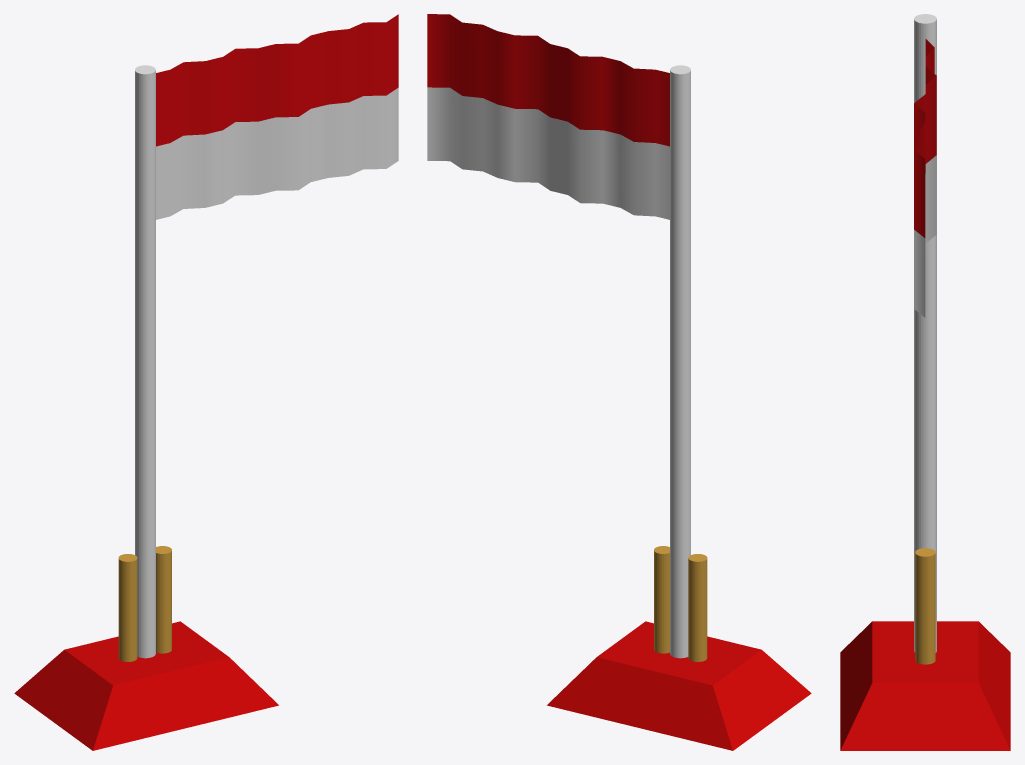
Rendered from tiang bendera.fbx.
The picture shows the model from 3 angles, left to right: view 1: azimuth 30°, elevation 25°; view 2: azimuth 150°, elevation 25°; view 3: azimuth 270°, elevation 25°; orthographic projection. The views are drawn at different scales.
Parts seen in each view (by area): view 1: Plane, Cube, Cylinder.001, Cylinder.000; view 2: Plane, Cube, Cylinder.001, Cylinder.000; view 3: Cube, Cylinder.001, Plane, Cylinder.000.
Part boxes in pixels (x1,y1,x2,y2): Plane: (156,14,398,219); Cube: (14,621,278,750); Cylinder.001: (135,65,155,658); Cylinder.000: (118,546,171,661); Plane: (427,14,669,219); Cube: (547,621,811,750); Cylinder.001: (670,65,690,658); Cylinder.000: (654,546,707,661); Cube: (840,621,1010,750); Cylinder.001: (914,14,936,652); Plane: (914,39,936,317); Cylinder.000: (915,548,935,664).
Size of the model in its own units: 454 by 792 by 179.
